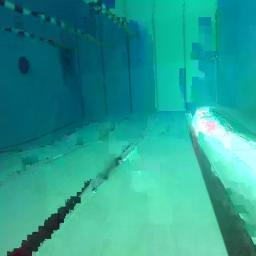Full: (209, 54, 217, 62)
